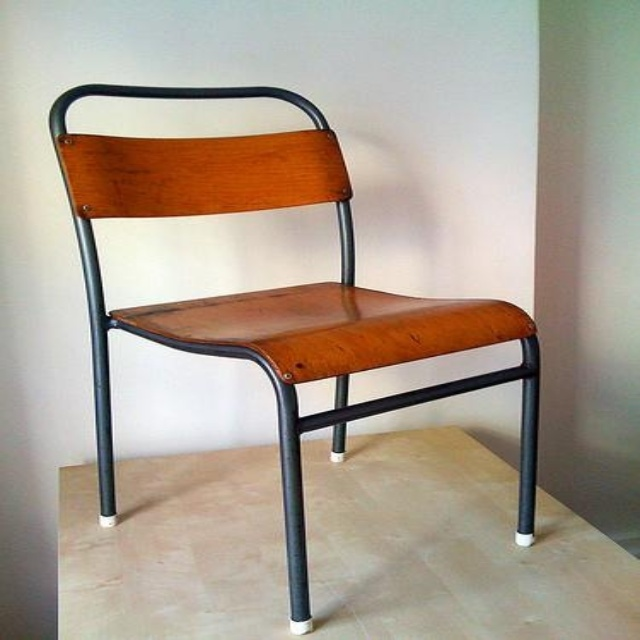obstacle: (49, 84, 538, 634)
